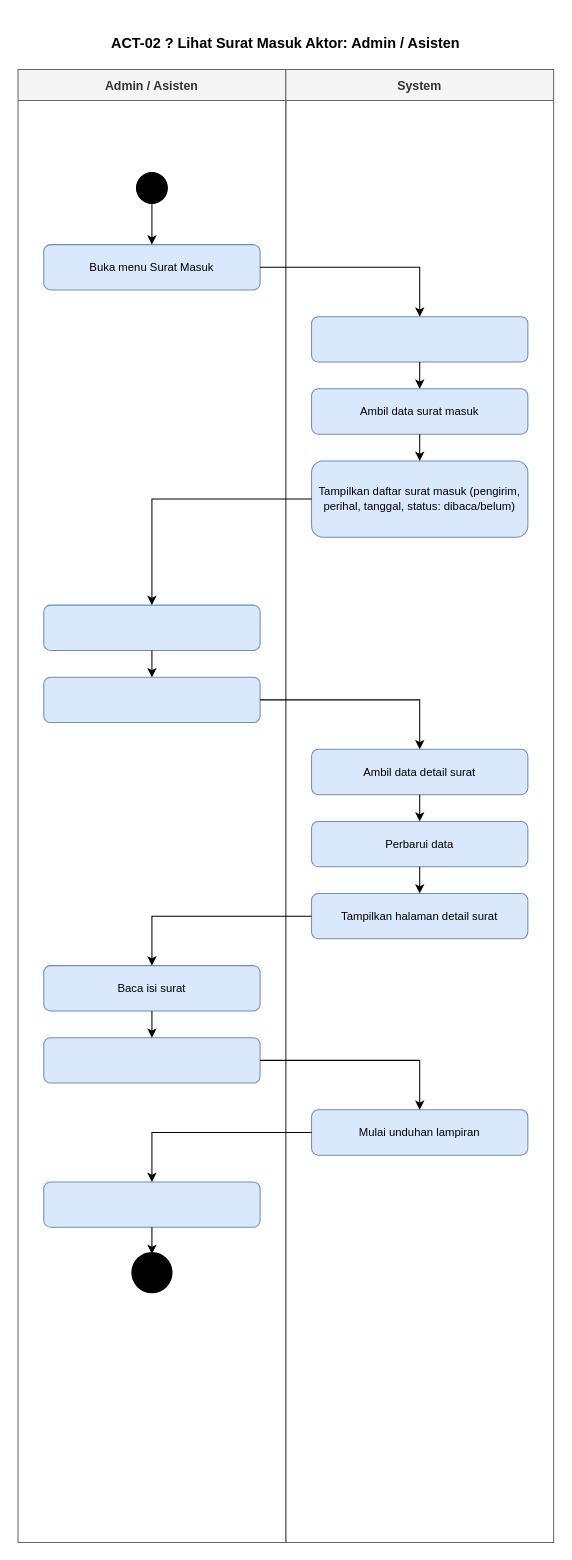
This 572x1560 diagram has some shape labels left out. The centre of each missing label's shape, as x and y in pixels:
"Cek autentikasi & role" goes at pixel 419 339.
"File lampiran terunduh" goes at pixel 151 1204.
"Klik surat ? lihat detail" goes at pixel 151 699.
"Lihat daftar surat masuk" goes at pixel 151 627.
"Unduh lampiran (opsional)" goes at pixel 151 1060.
